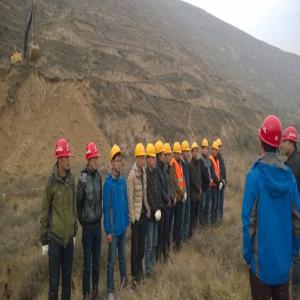red: (258, 112, 282, 162), (55, 135, 73, 173), (282, 123, 298, 158), (86, 141, 100, 173)
yellow: (111, 143, 123, 176), (145, 142, 157, 171), (134, 143, 146, 171), (155, 140, 166, 165), (181, 140, 191, 163), (164, 141, 173, 165), (173, 141, 182, 163), (201, 138, 210, 157), (191, 140, 199, 161), (213, 141, 220, 158), (217, 137, 223, 154)
